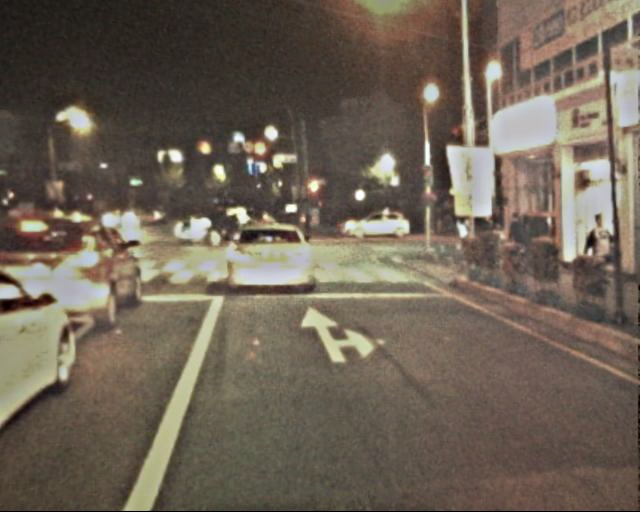person: (582, 215, 616, 298), (505, 211, 528, 267), (296, 200, 340, 229), (455, 216, 475, 262)
